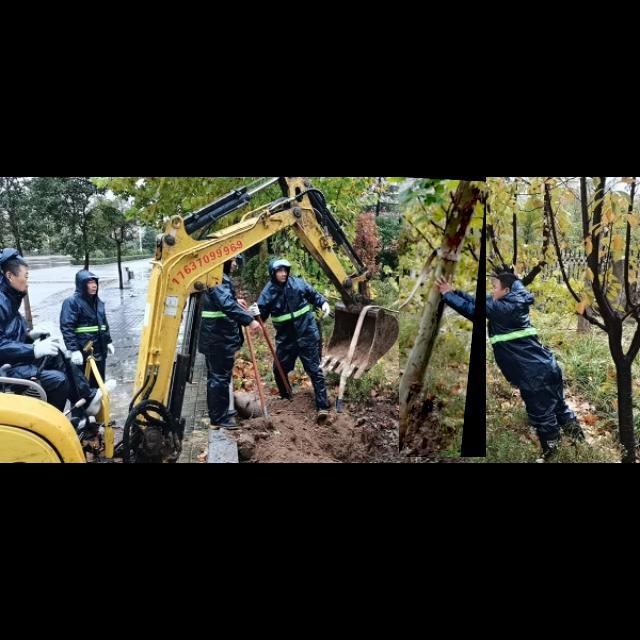fallen_tree: (399, 176, 487, 458)
